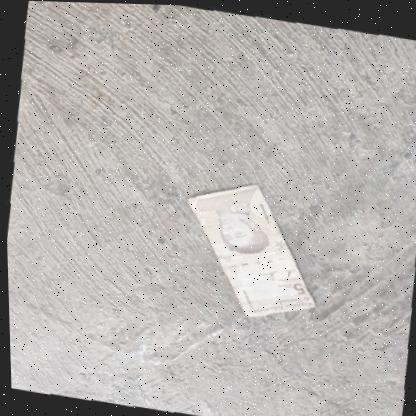five-front-vef: (168, 170, 330, 327)
